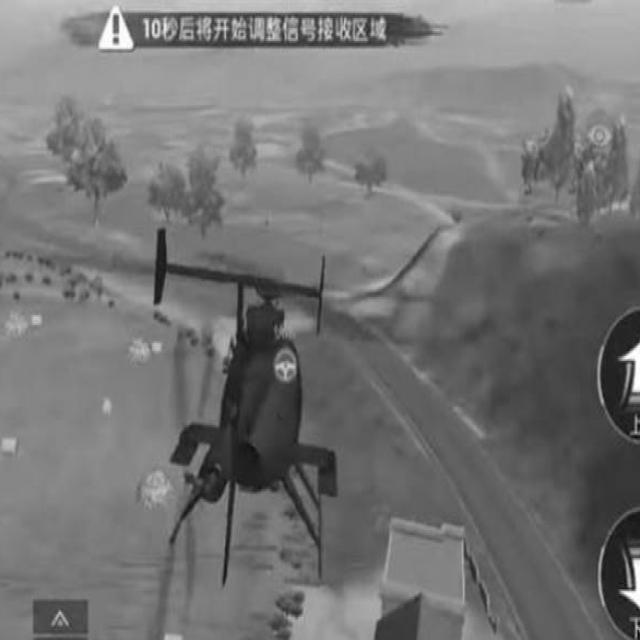helicopter: (149, 228, 344, 602)
